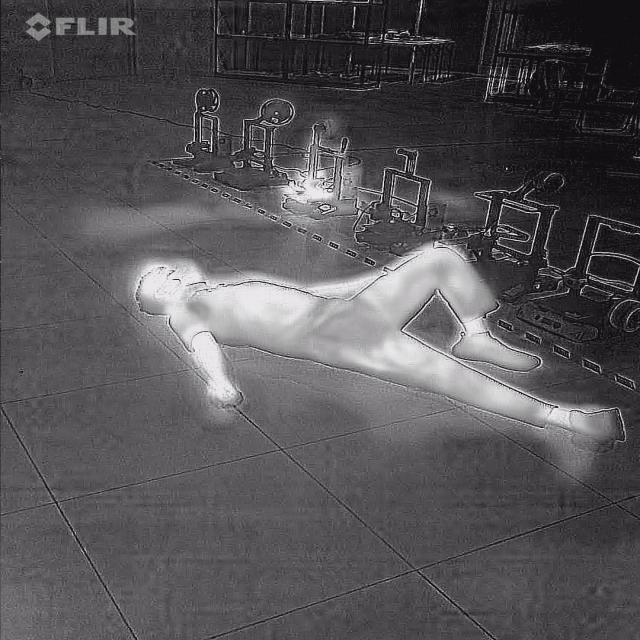Victim: (124, 235, 630, 454)
